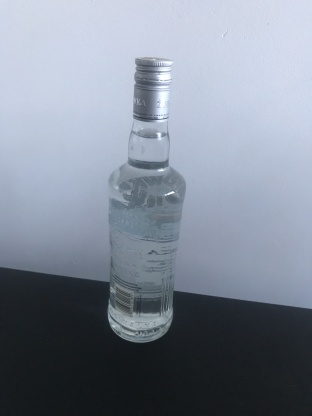nakretka: (131, 55, 174, 123)
